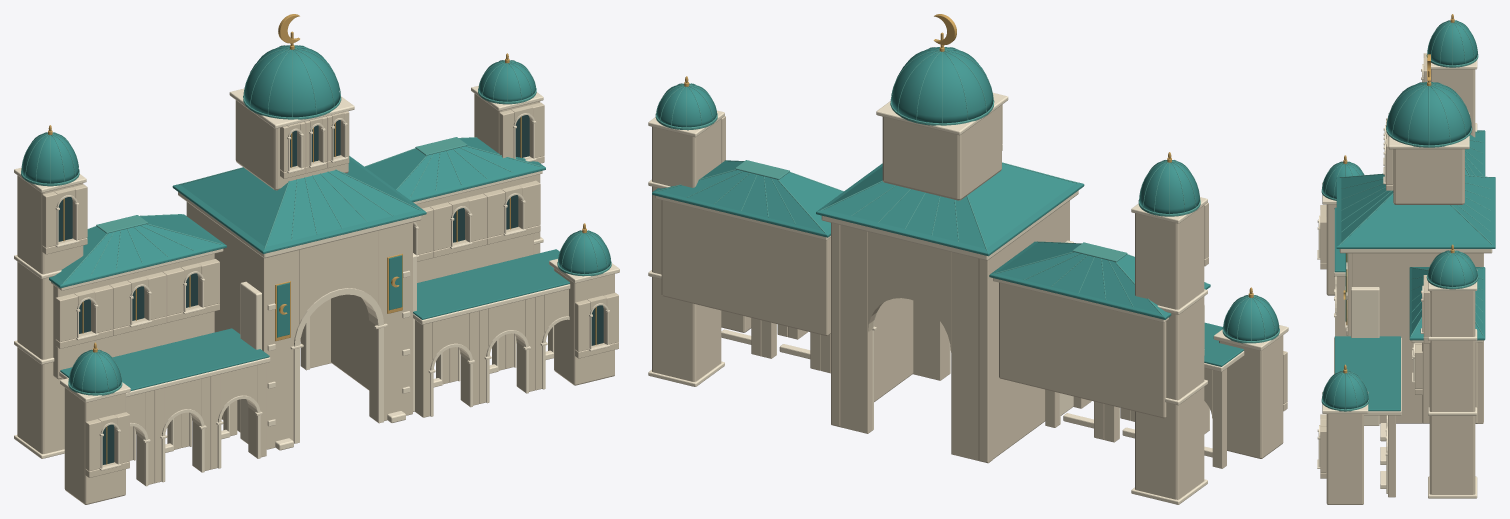
Rendered from world01-palace-v2.glb.
3 renders of one model, left to right at view 1: azimuth 30°, elevation 25°; view 2: azimuth 150°, elevation 25°; view 3: azimuth 270°, elevation 25°, orthographic. The views are drawn at different scales.
Visible parts, largest first — view 1: Ivory limestone, Patinated copper, Carved pale edges, Raised copper seams, Deep blue recess, Warm brass; view 2: Ivory limestone, Patinated copper, Carved pale edges, Raised copper seams; view 3: Ivory limestone, Patinated copper, Carved pale edges, Raised copper seams, Warm brass.
Part boxes in pixels (box(x1,y1,x2,y2)): Ivory limestone: box(17, 93, 618, 504); Patinated copper: box(22, 45, 610, 393); Carved pale edges: box(14, 85, 619, 486); Raised copper seams: box(21, 45, 611, 395); Deep blue recess: box(58, 115, 603, 464); Warm brass: box(48, 14, 596, 464); Ivory limestone: box(652, 104, 1287, 499); Patinated copper: box(652, 47, 1278, 366); Carved pale edges: box(648, 93, 1288, 504); Raised copper seams: box(655, 47, 1279, 343); Ivory limestone: box(1320, 53, 1483, 504); Patinated copper: box(1322, 21, 1495, 411); Carved pale edges: box(1317, 60, 1492, 498); Raised copper seams: box(1321, 20, 1492, 411); Warm brass: box(1343, 14, 1454, 373).
Size of the model in its own units: 41.66 by 28.47 by 13.67.
